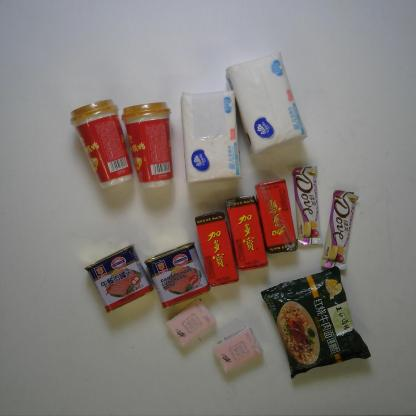Canned Food: (84, 242, 154, 315), (140, 244, 218, 306)
Chocolate: (319, 187, 360, 274), (288, 162, 325, 249)
Drink: (222, 193, 271, 274), (192, 209, 242, 287), (252, 177, 300, 256)
Instant Drink: (60, 100, 135, 195), (121, 95, 180, 191)
Instant Noodles: (263, 264, 374, 378)
Tissue: (226, 47, 320, 156), (174, 81, 248, 200), (163, 297, 220, 352), (208, 325, 265, 376)
